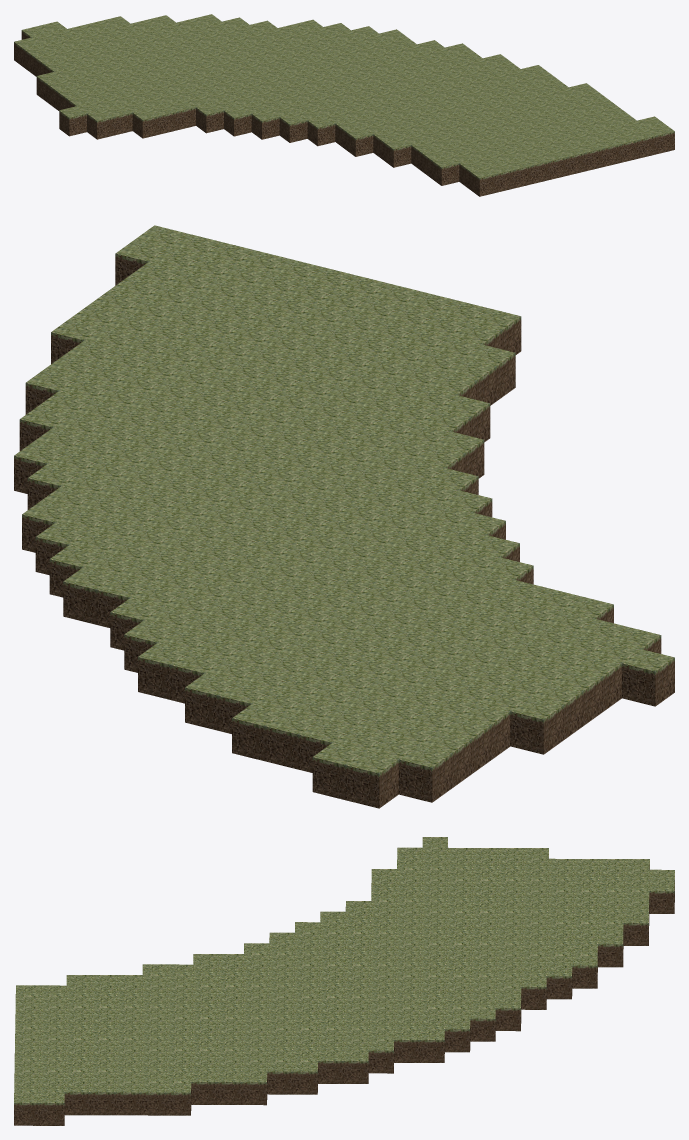
3 views of the same model, one above another, from view 1: azimuth 30°, elevation 25°; view 2: azimuth 150°, elevation 25°; view 3: azimuth 270°, elevation 25° (orthographic). The views are drawn at different scales.
Parts seen in each view (by area): view 1: stage_1layer_3; view 2: stage_1layer_3; view 3: stage_1layer_3.
Part boxes in pixels (x1=…): stage_1layer_3: x1=14, y1=14, x2=674, y2=196; stage_1layer_3: x1=14, y1=225, x2=674, y2=808; stage_1layer_3: x1=14, y1=837, x2=674, y2=1125.
Size of the model in its own units: 2488 by 100 by 2613.
